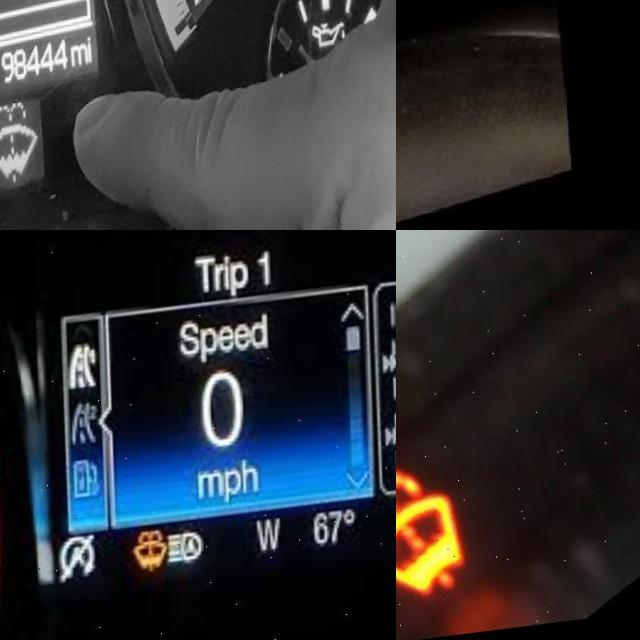Washer Fluid: (396, 464, 458, 612), (0, 104, 38, 189)
